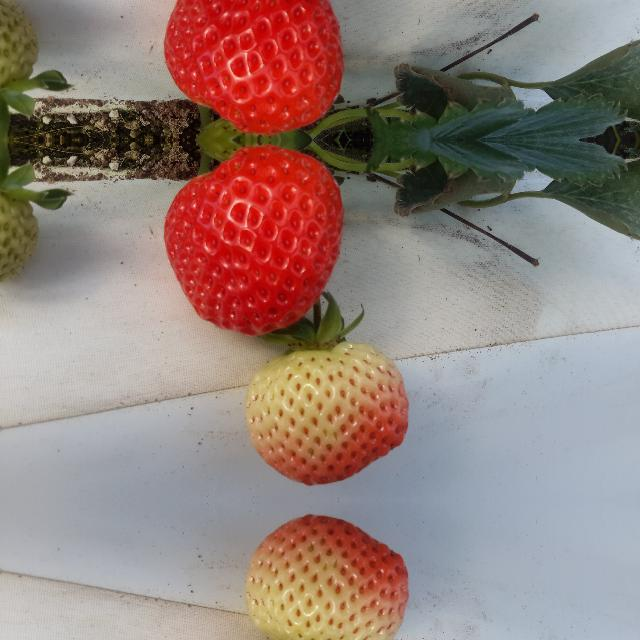Health_100: (163, 145, 343, 335), (163, 0, 343, 135)
Health_50: (244, 340, 406, 484), (244, 516, 405, 640)
